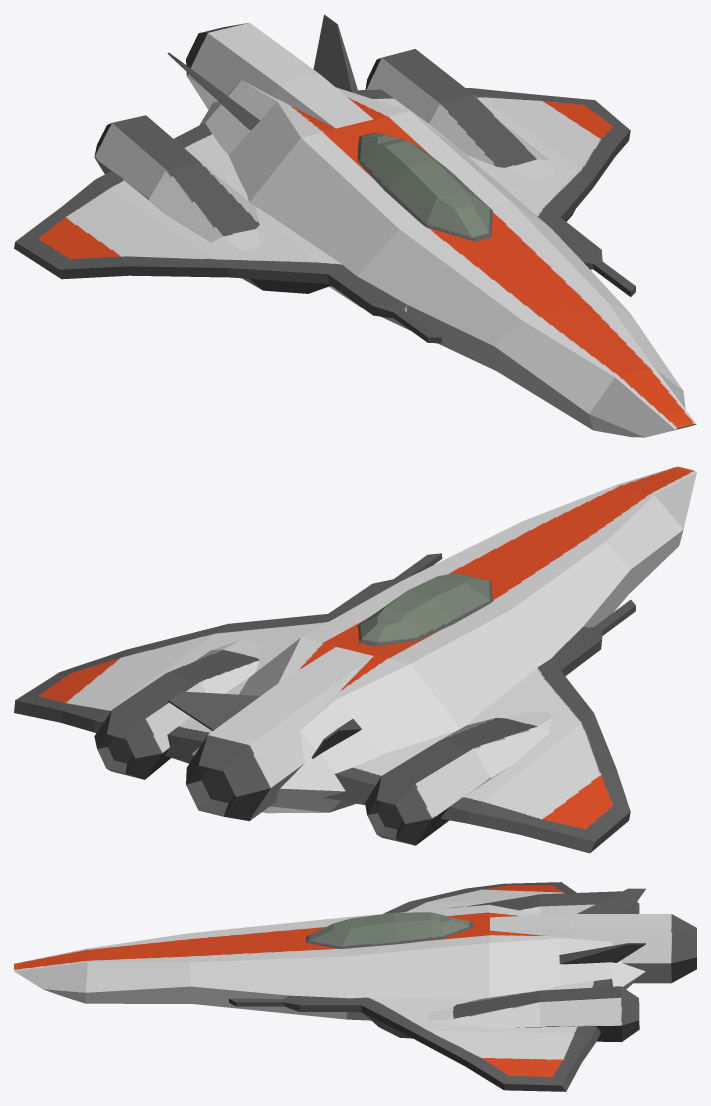
The model's file is spaceship.fbx.
3 renders of one model, top to bottom at view 1: azimuth 30°, elevation 25°; view 2: azimuth 150°, elevation 25°; view 3: azimuth 270°, elevation 25°, orthographic. The views are drawn at different scales.
Parts seen in each view (by area): view 1: Cube; view 2: Cube; view 3: Cube.
Part boxes in pixels (<box>): Cube: <box>14,14,696,437</box>; Cube: <box>14,466,696,853</box>; Cube: <box>14,882,696,1091</box>.
Bounding box in the file's own units: 668 × 132 × 947.
1 material, 1 textured.
